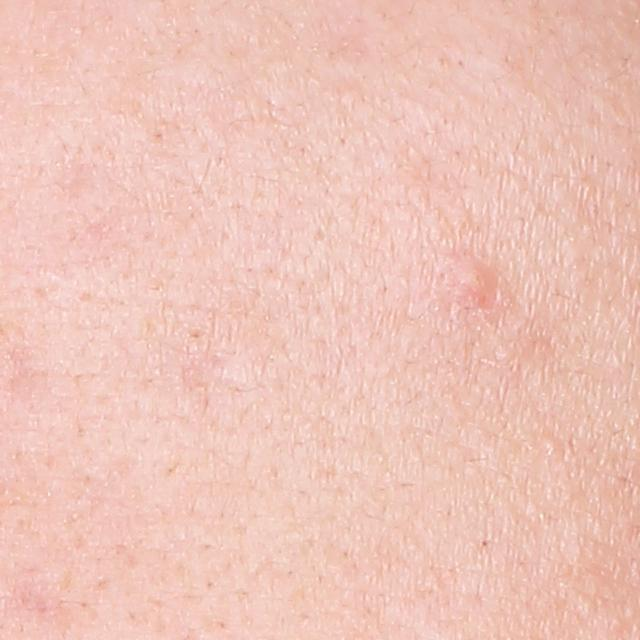papule: (451, 258, 500, 312)
